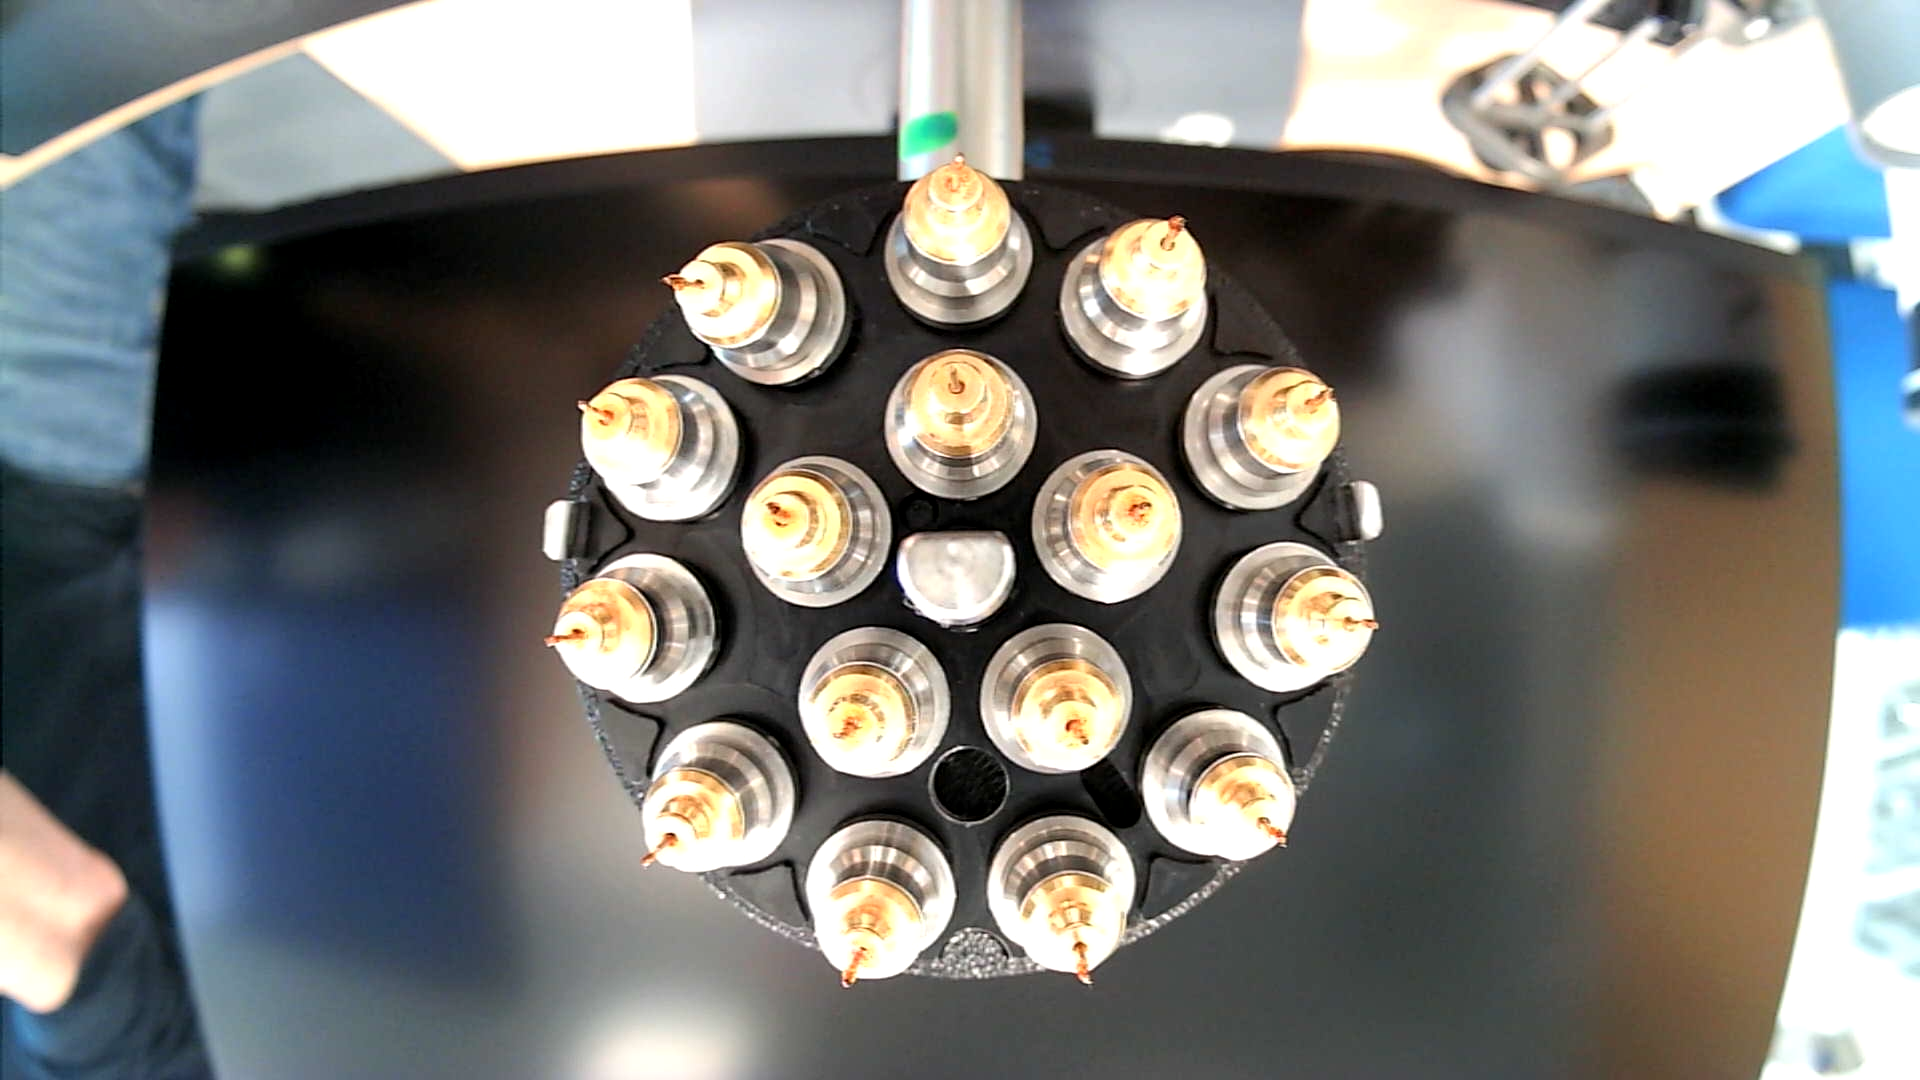hole: (924, 742, 1011, 828)
misplaced: (663, 236, 853, 388)
pin: (538, 549, 723, 707), (802, 812, 957, 992), (984, 810, 1137, 992), (882, 152, 1035, 328), (1205, 541, 1377, 698), (571, 371, 740, 527), (1058, 208, 1209, 381), (1135, 705, 1298, 865), (638, 721, 796, 880), (881, 345, 1040, 502), (791, 624, 949, 781), (1029, 447, 1183, 607), (1182, 361, 1341, 516), (978, 617, 1134, 774), (738, 454, 894, 609)
rod: (891, 525, 1025, 632)
